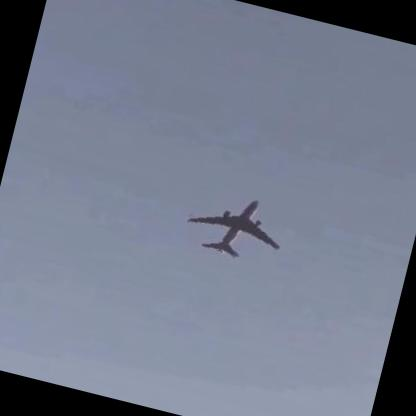plane: (179, 183, 290, 271)
